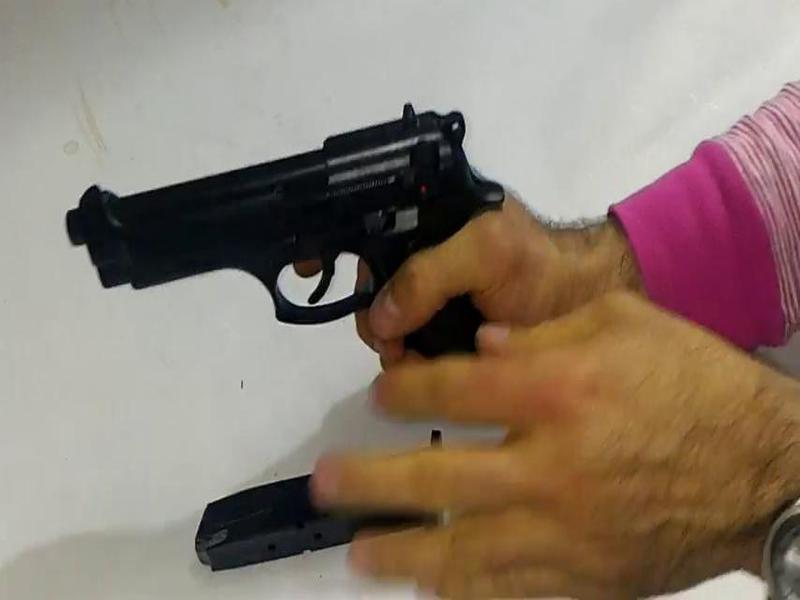Pistola: (60, 97, 536, 389)
